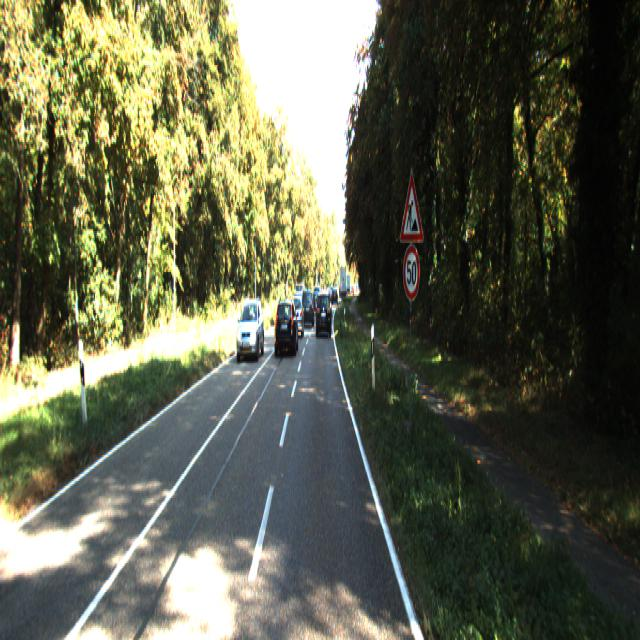Car: (236, 296, 264, 359), (274, 293, 299, 354), (288, 292, 304, 336), (316, 285, 331, 331), (302, 283, 314, 321)
